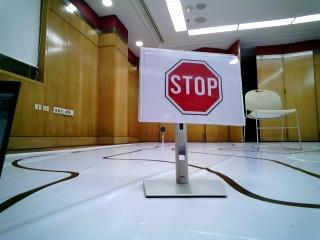stop: (146, 53, 238, 123)
